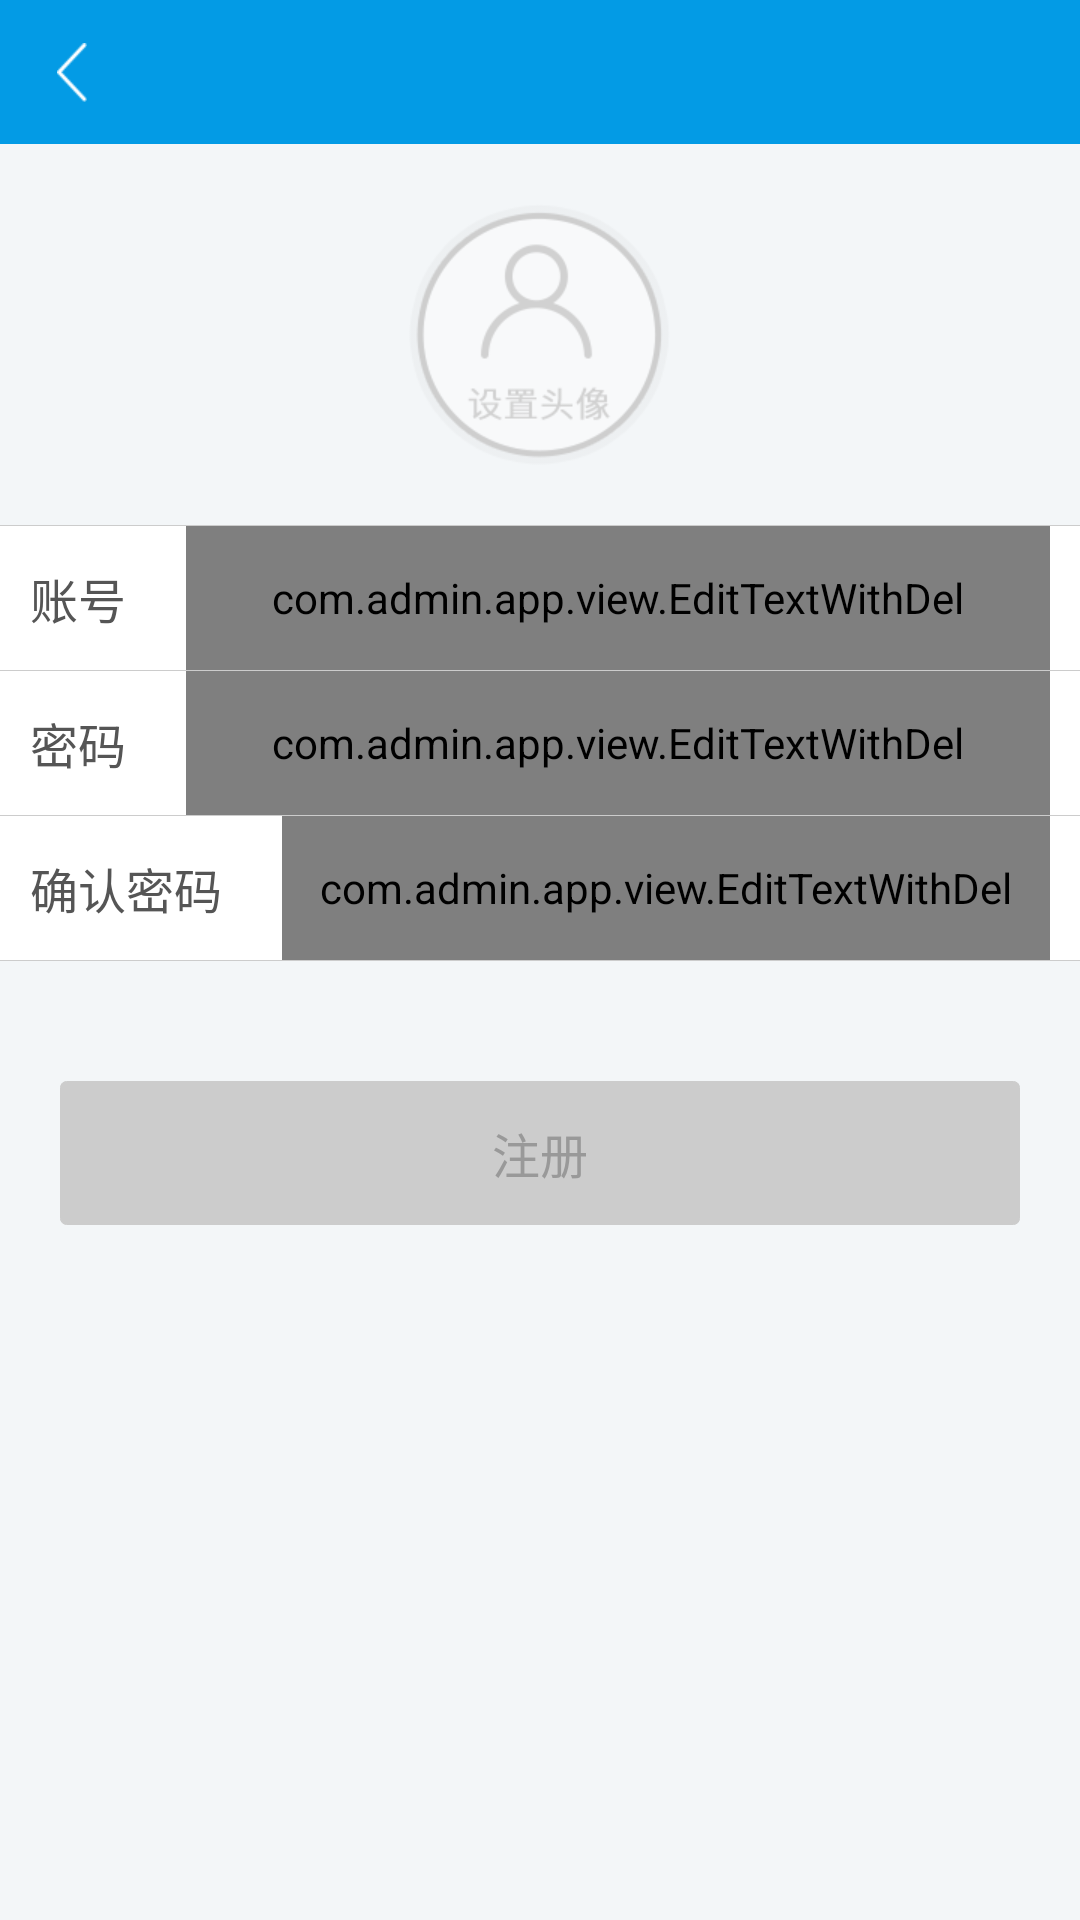

Icons on this 1080*1920 Android screen, each with the point to tap as [x,y]:
arrow left: [72,72]
